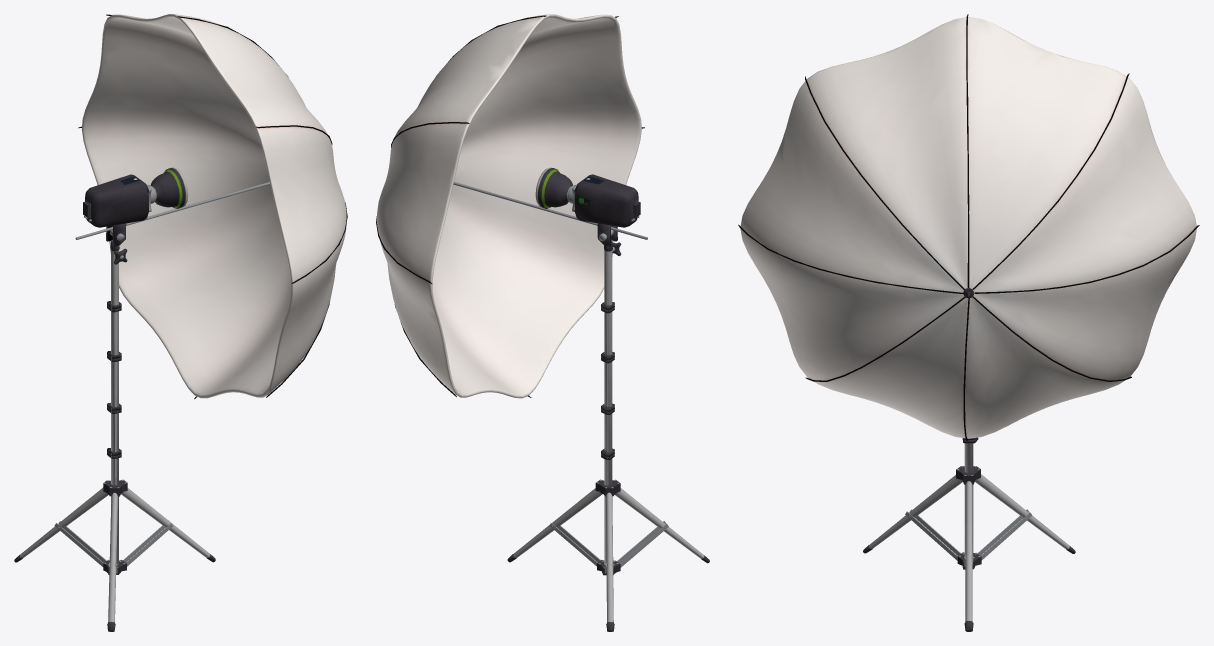
Rendered from sombrilla.glb.
3 renders of one model, left to right at view 1: azimuth 30°, elevation 25°; view 2: azimuth 150°, elevation 25°; view 3: azimuth 270°, elevation 25°, orthographic. The views are drawn at different scales.
Visible parts, largest first — view 1: Cylinder.003_Material.001_0; view 2: Cylinder.003_Material.001_0; view 3: Cylinder.003_Material.001_0.
Boxes of the visible parts, box(x1,y1,x2,y2) form: Cylinder.003_Material.001_0: box(14, 14, 347, 631); Cylinder.003_Material.001_0: box(376, 14, 709, 631); Cylinder.003_Material.001_0: box(738, 14, 1199, 631).
Bounding box in the file's own units: 789 × 1543 × 1076.
1 material, 1 textured.
